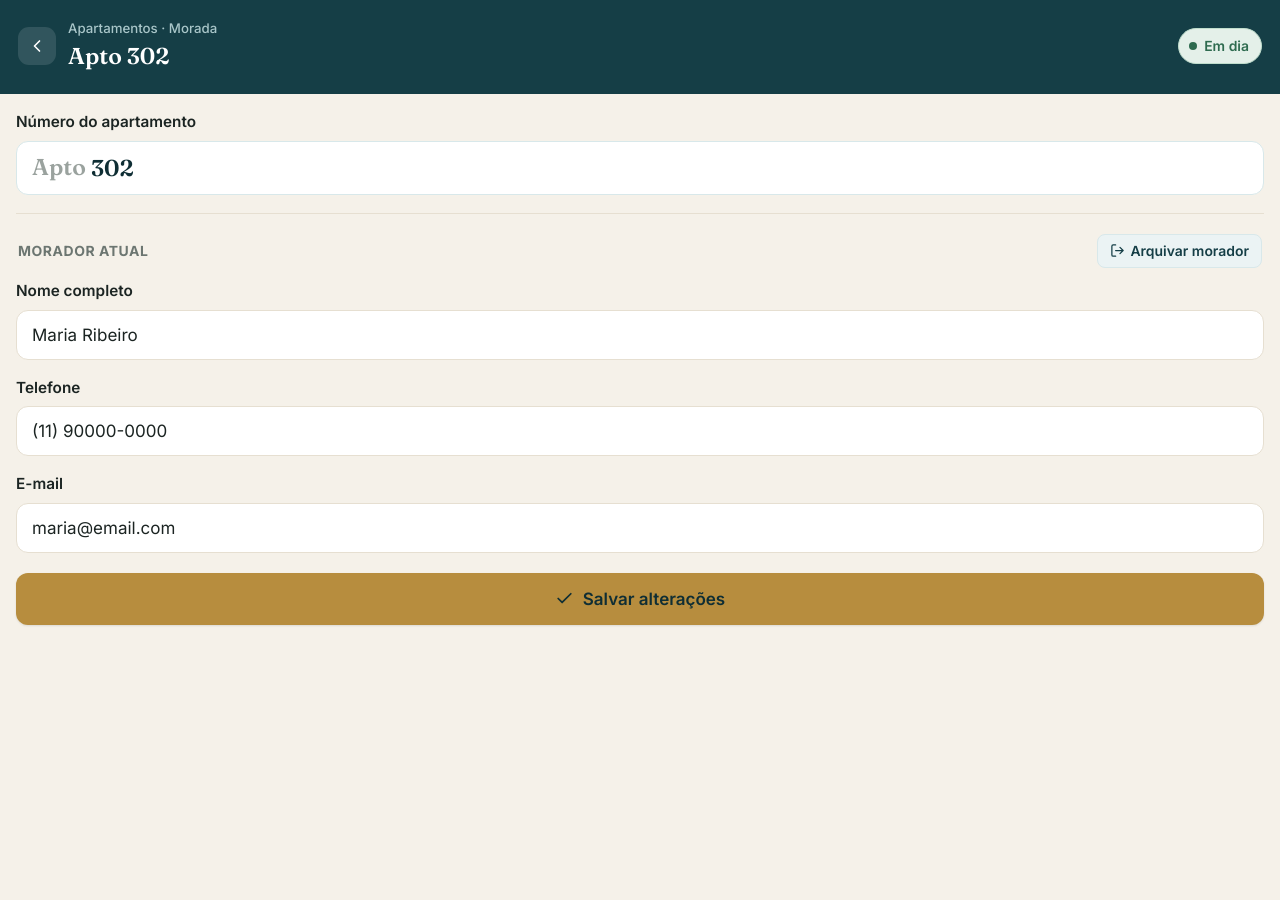
Scenario: ResidentEditScreen › cancelling the archive confirmation does not deactivate
Click the button "Arquivar morador": (1180, 251) x1=1098 y1=234 x2=1262 y2=268
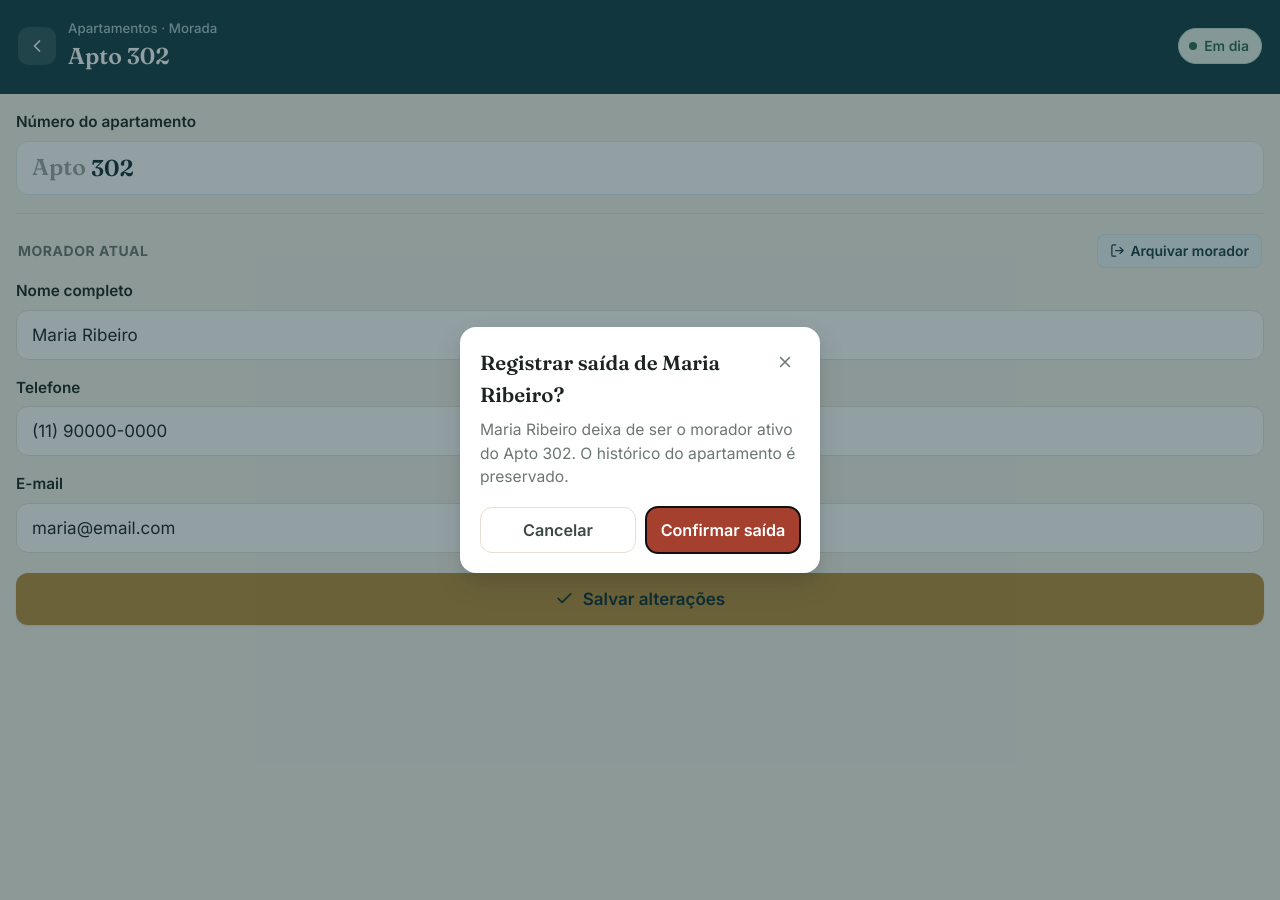
Click the button "Cancelar": (558, 530) x1=480 y1=507 x2=636 y2=553
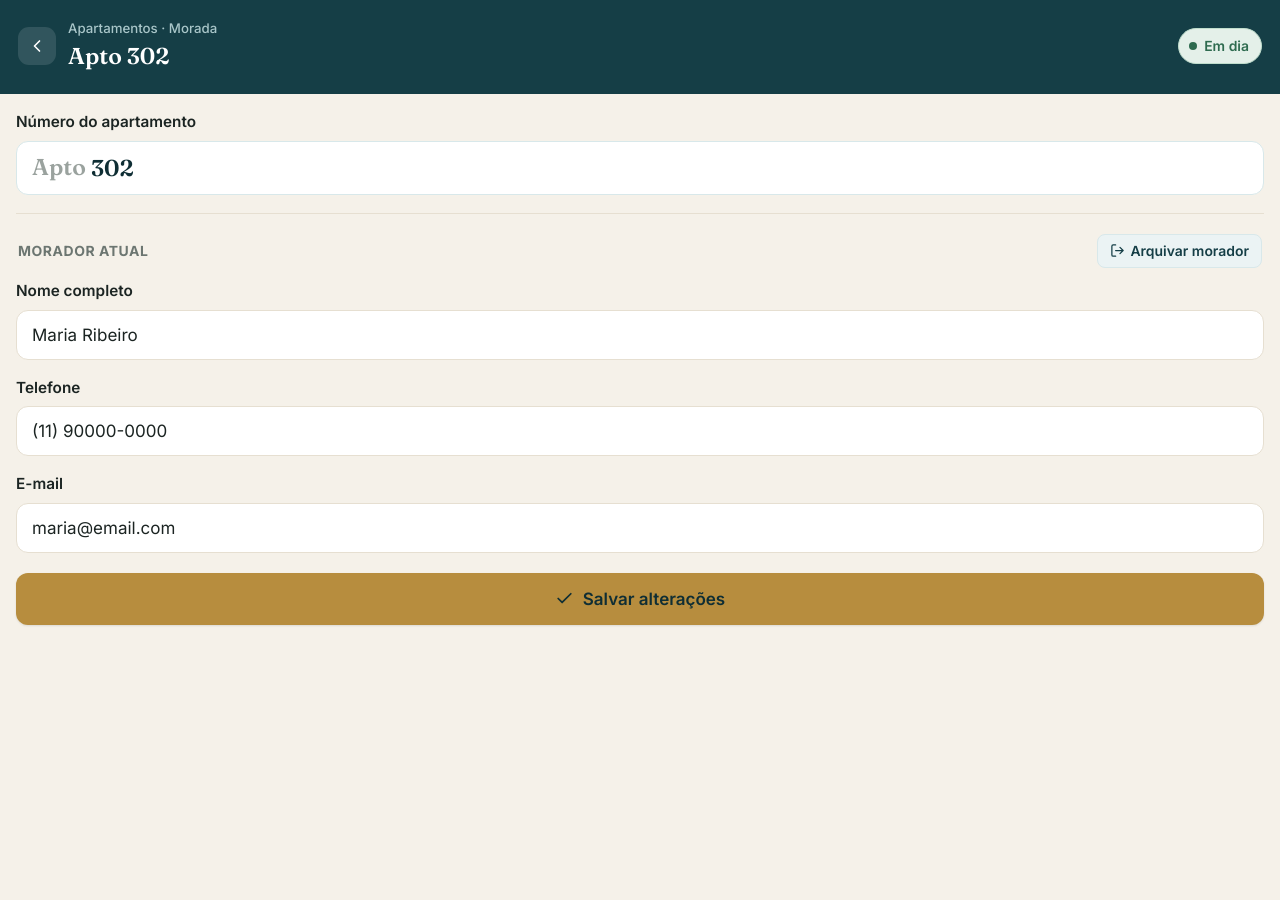
expect the dialog is gone: met
